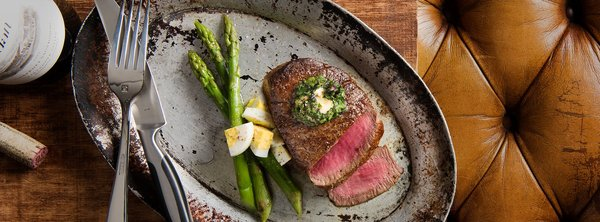sandwich: (131, 56, 193, 222), (0, 119, 48, 168)
